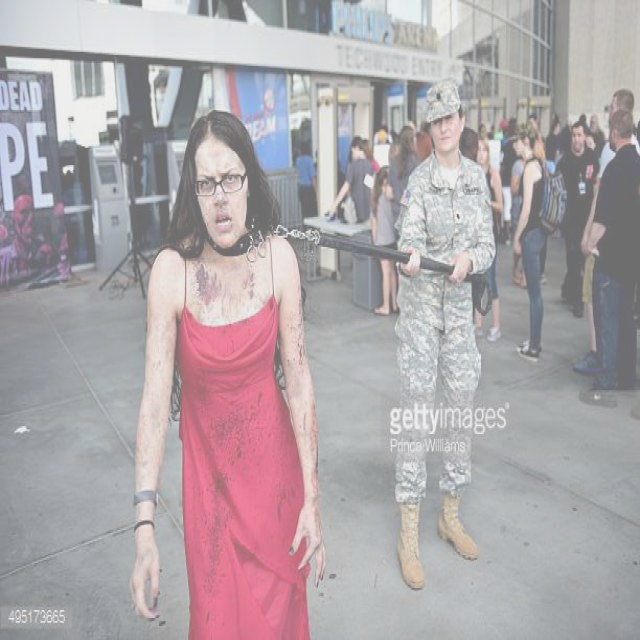pessoa: (126, 109, 330, 638), (391, 77, 499, 593), (571, 86, 639, 372), (586, 106, 640, 392), (509, 118, 567, 362), (554, 121, 602, 318), (0, 188, 72, 292), (472, 132, 505, 344), (524, 102, 606, 172), (458, 124, 482, 330), (510, 136, 540, 290), (370, 166, 400, 318), (384, 126, 422, 240), (328, 134, 374, 225), (488, 147, 518, 246), (295, 136, 319, 234), (476, 114, 524, 150), (361, 135, 382, 189), (410, 122, 432, 166), (378, 126, 402, 166), (540, 224, 550, 286)
